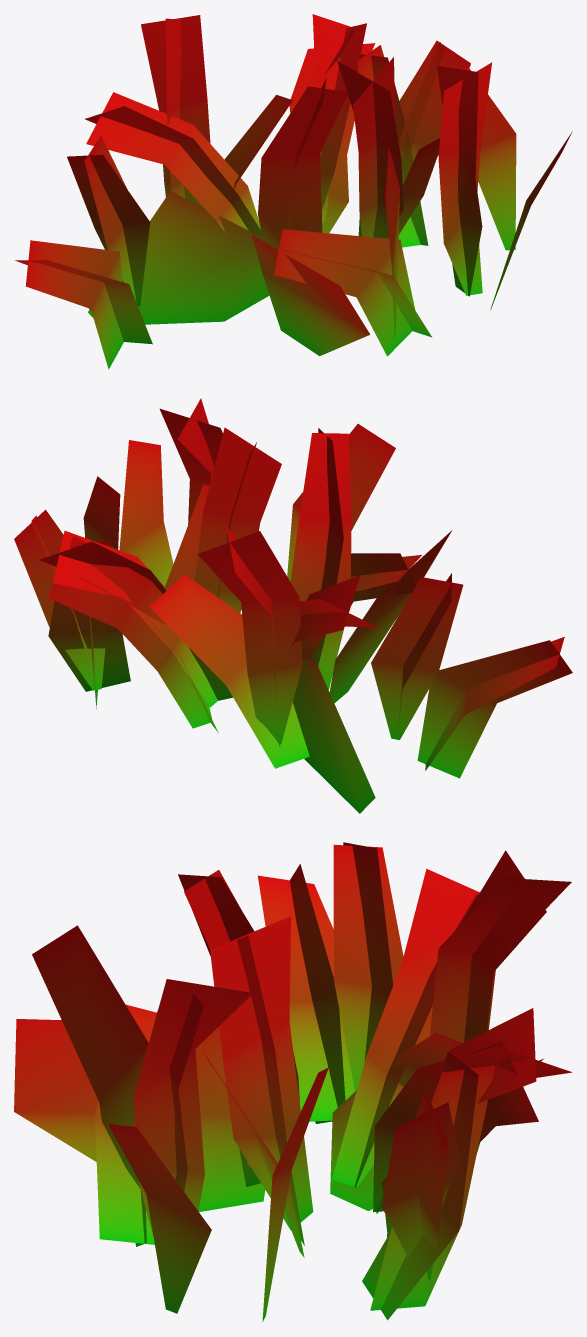
Rendered from Var1_LOD0.fbx.
3 views of the same model, one above another, from view 1: azimuth 30°, elevation 25°; view 2: azimuth 150°, elevation 25°; view 3: azimuth 270°, elevation 25° (orthographic). The views are drawn at different scales.
Parts seen in each view (by area): view 1: _ee27_Var1_LOD0; view 2: _ee27_Var1_LOD0; view 3: _ee27_Var1_LOD0.
Boxes of the visible parts, x1,y1,x2,y2 form: _ee27_Var1_LOD0: (15, 14, 572, 369); _ee27_Var1_LOD0: (14, 398, 572, 813); _ee27_Var1_LOD0: (14, 842, 572, 1321).
Size of the model in its own units: 9.27 by 5.03 by 6.79.
